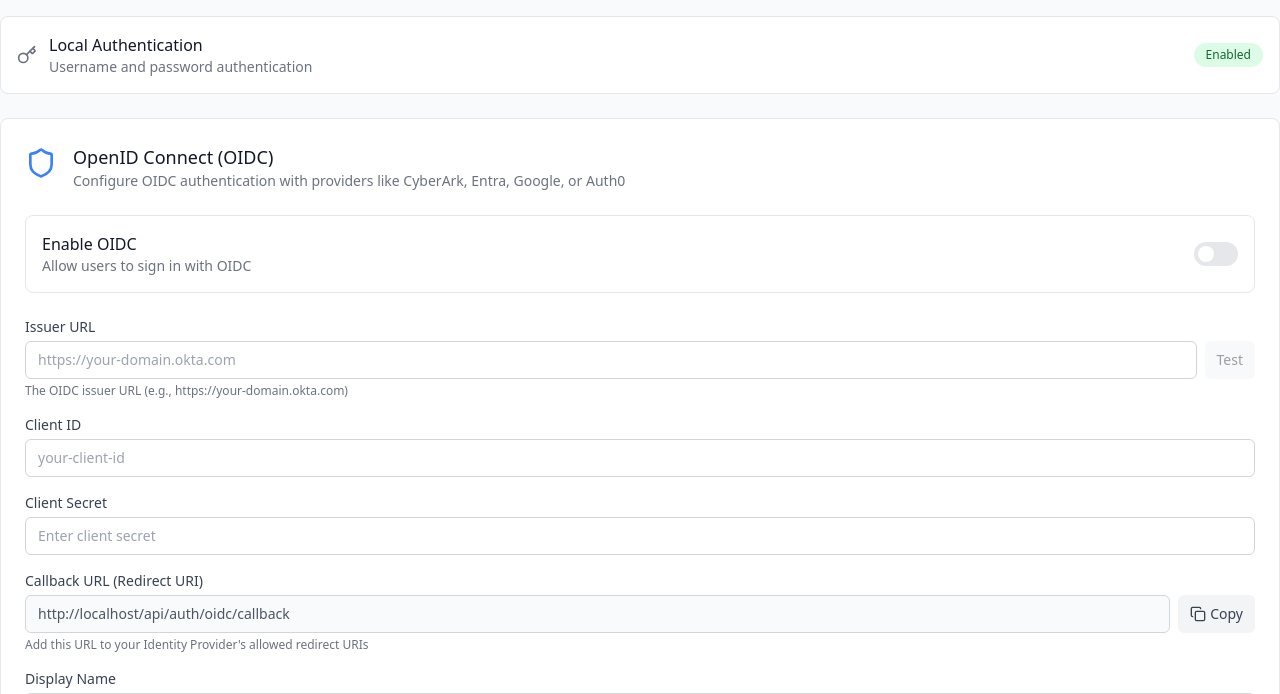
Test case: SettingsPage › admin users › shows test connection failure
(page scrolled)
Check: the text "Issuer URL" is shown, box [25,317,95,336]
In the field with placeholder "https://your-domain.okta.com": (611, 360) [25,341,1196,379], type "https://bad-idp.example.com"
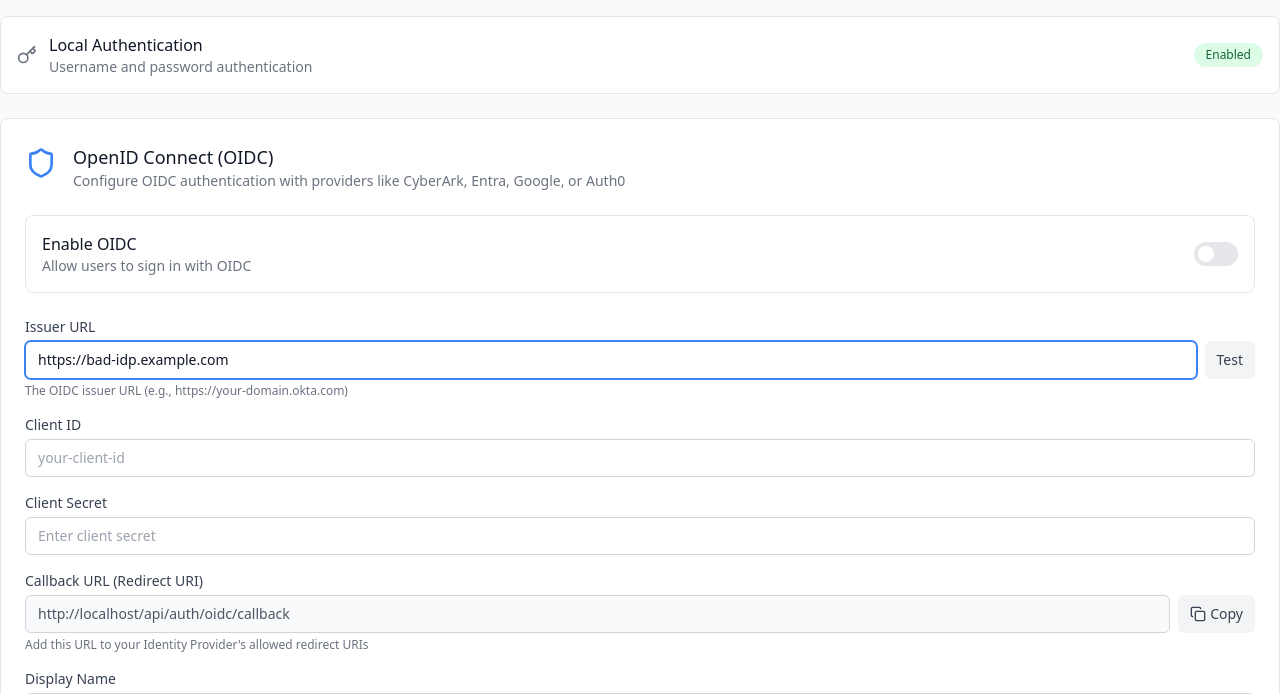
Click the button "Test": click(1230, 360) [1204,341,1255,379]
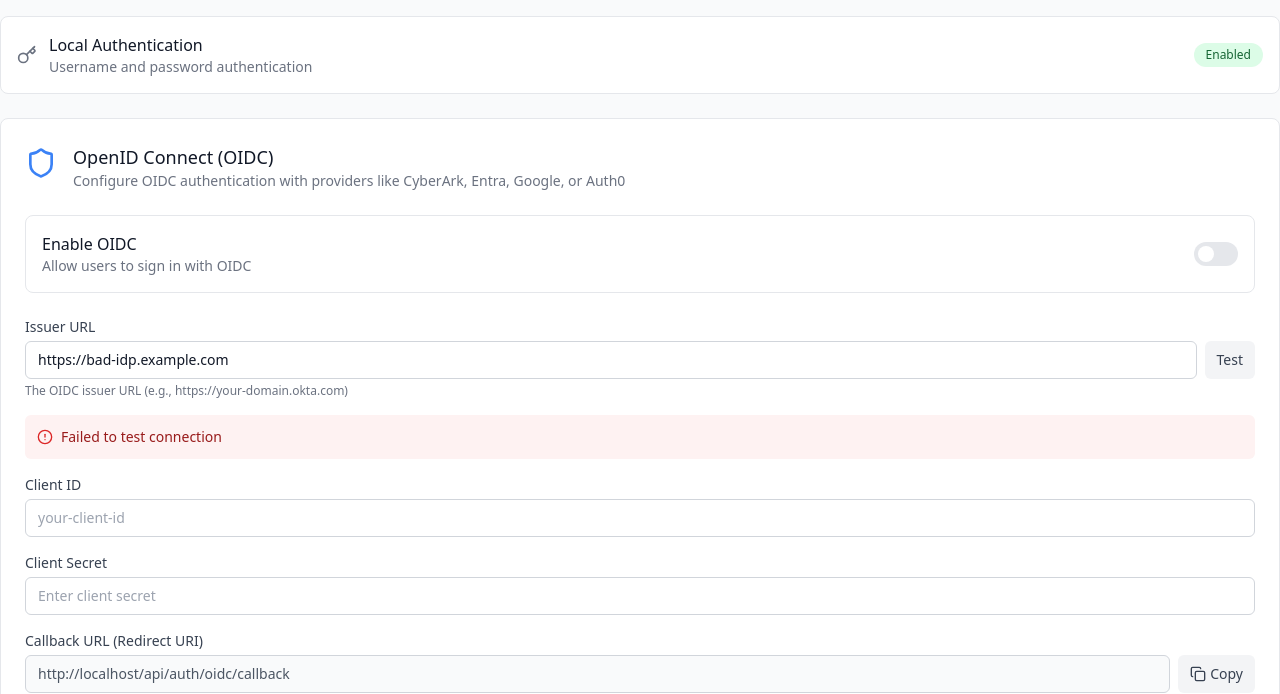
Check: the text "Failed to test connection" is shown, box [61,427,222,447]
